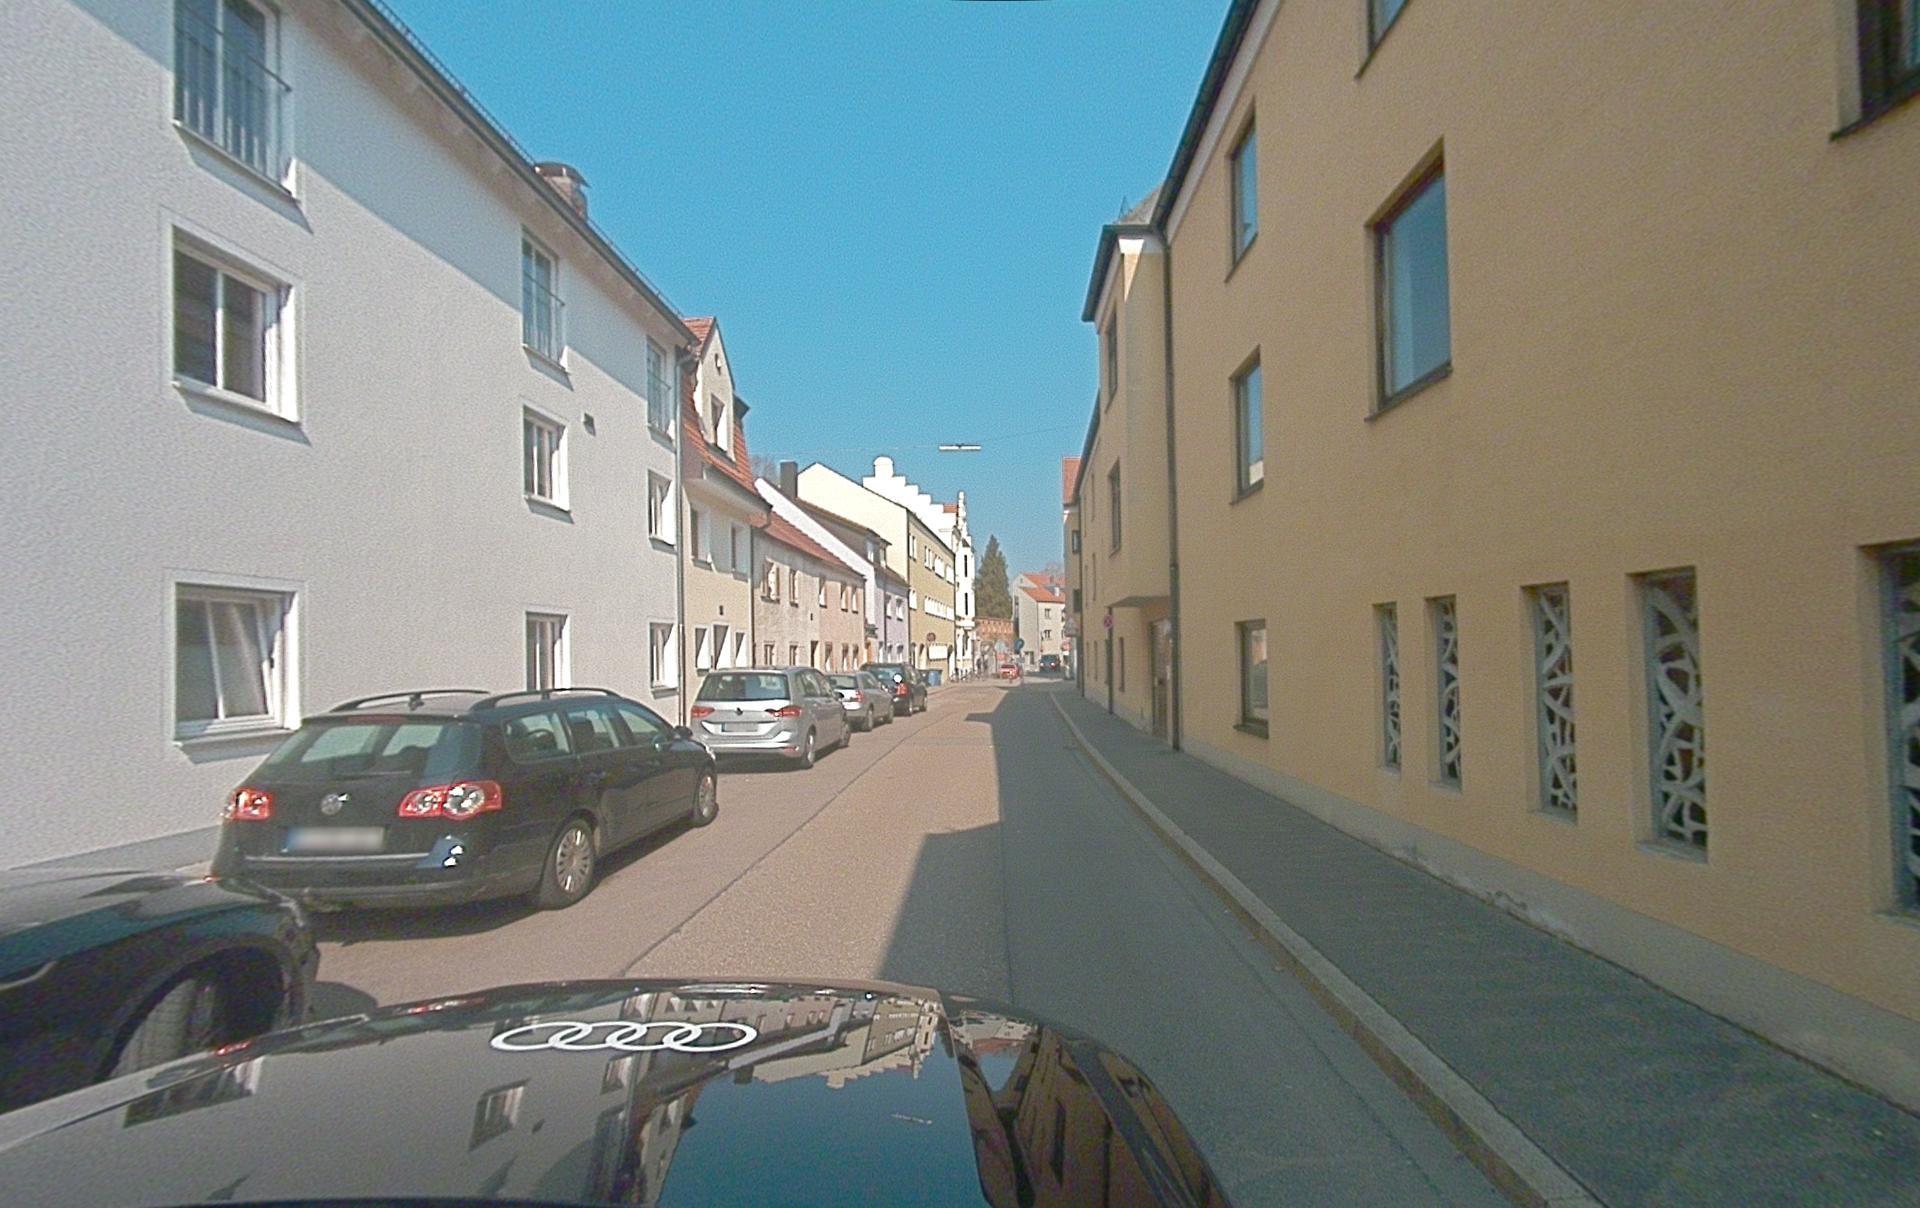car: (0, 976, 1235, 1207), (210, 686, 719, 916), (0, 864, 320, 1120), (690, 665, 850, 768), (828, 671, 895, 732), (860, 664, 928, 715), (998, 664, 1020, 682)
